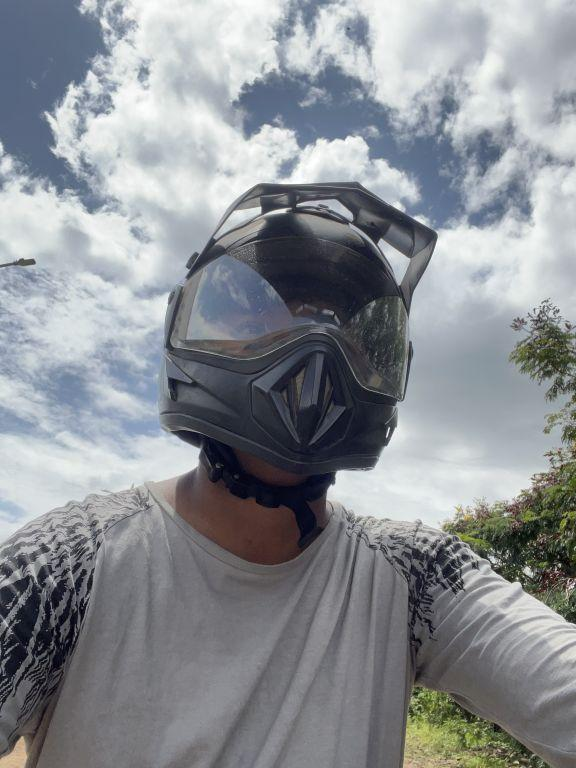helmet: (140, 149, 444, 521)
